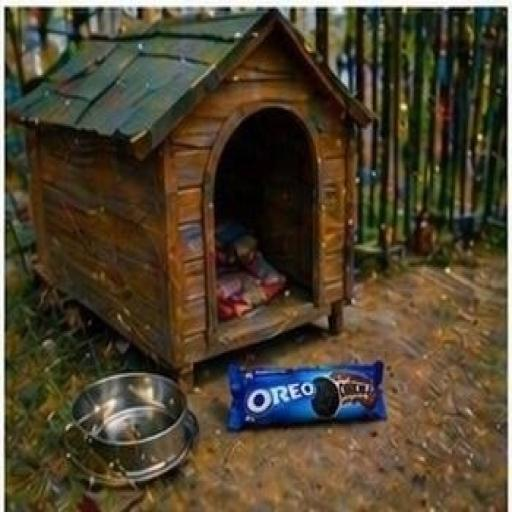oreo: (132, 280, 424, 481)
